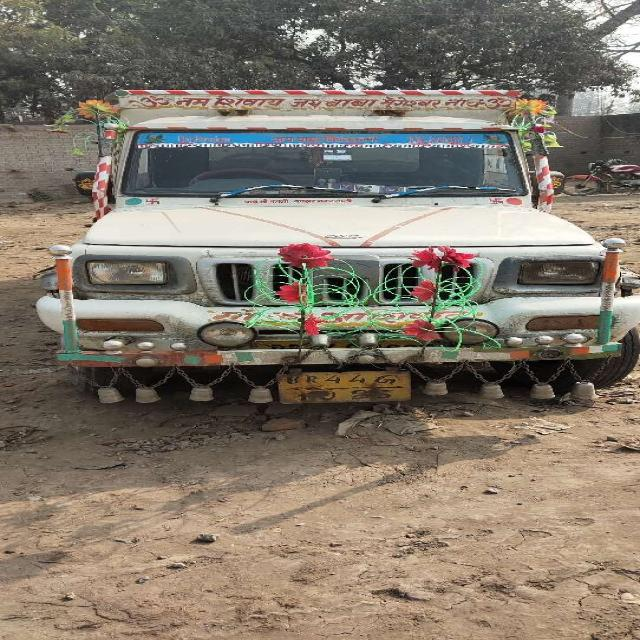light_vehicle: (29, 123, 636, 410)
